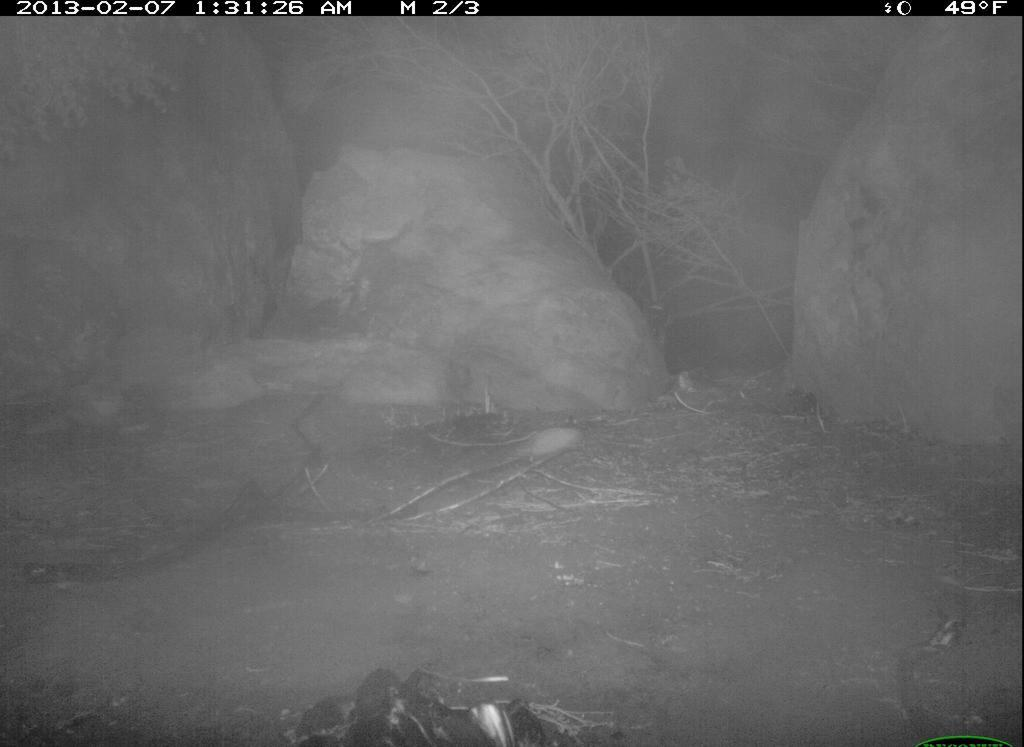rabbit: (494, 424, 587, 470)
